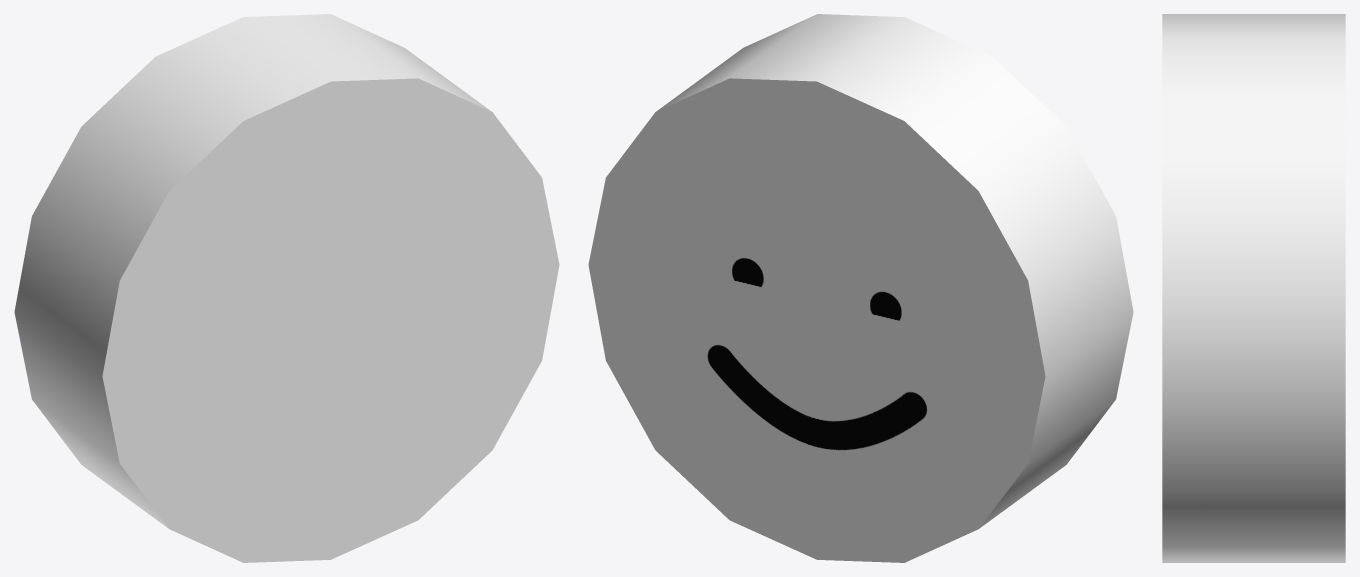
File: baseHead.glb
The picture shows the model from 3 angles, left to right: view 1: azimuth 30°, elevation 25°; view 2: azimuth 150°, elevation 25°; view 3: azimuth 270°, elevation 25°; orthographic projection. The views are drawn at different scales.
Visible parts, largest first — view 1: head_1 style_1 ALL; view 2: head_1 style_1 ALL; view 3: head_1 style_1 ALL.
Boxes of the visible parts, box(x1,y1,x2,y2) form: head_1 style_1 ALL: box(14, 14, 559, 562); head_1 style_1 ALL: box(588, 14, 1133, 562); head_1 style_1 ALL: box(1162, 14, 1345, 562).
Size of the model in its own units: 0.3 by 0.3 by 0.1.
Materials: 1 (1 with a texture image).
